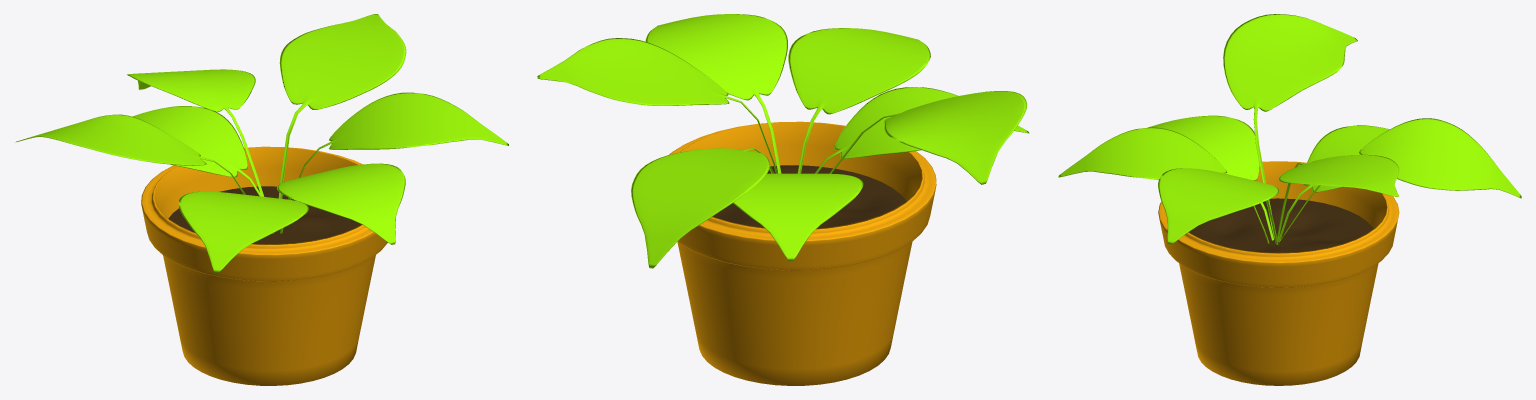
Rendered from Plant.fbx.
3 renders of one model, left to right at view 1: azimuth 30°, elevation 25°; view 2: azimuth 150°, elevation 25°; view 3: azimuth 270°, elevation 25°, orthographic. The views are drawn at different scales.
Visible parts, largest first — view 1: pCylinder1, pCube24, pCube25, pCube20, pCube21, pCube22, pCube26, pCube23, pCylinder2; view 2: pCylinder1, pCube23, pCube20, pCube25, pCube24, pCube22, pCube26, pCube21, pCylinder2; view 3: pCylinder1, pCube22, pCube23, pCylinder2, pCube25, pCube20, pCube21, pCube24, pCube26.
Boxes of the visible parts, box(x1,y1,x2,y2) form: pCylinder1: box(141, 146, 387, 385); pCube24: box(278, 14, 406, 198); pCube25: box(290, 92, 508, 199); pCube20: box(277, 163, 405, 244); pCube21: box(178, 191, 308, 272); pCube22: box(15, 114, 245, 194); pCube26: box(132, 106, 262, 196); pCube23: box(127, 69, 264, 196); pCylinder2: box(168, 186, 361, 244); pCylinder1: box(669, 121, 936, 385); pCube23: box(631, 148, 774, 268); pCube20: box(788, 28, 930, 173); pCube25: box(645, 14, 787, 173); pCube24: box(537, 38, 777, 173); pCube22: box(829, 91, 1027, 184); pCube26: box(733, 173, 863, 260); pCube21: box(815, 87, 1029, 173); pCylinder2: box(713, 165, 906, 228); pCylinder1: box(1158, 161, 1399, 385); pCube22: box(1223, 14, 1357, 238); pCube23: box(1280, 118, 1521, 240); pCylinder2: box(1189, 198, 1373, 252); pCube25: box(1158, 168, 1278, 244); pCube20: box(1058, 127, 1269, 243); pCube21: box(1148, 115, 1274, 240); pCube24: box(1277, 154, 1399, 241); pCube26: box(1278, 125, 1389, 242).
Bounding box in the file's own units: 6.14 × 3.87 × 6.62.
